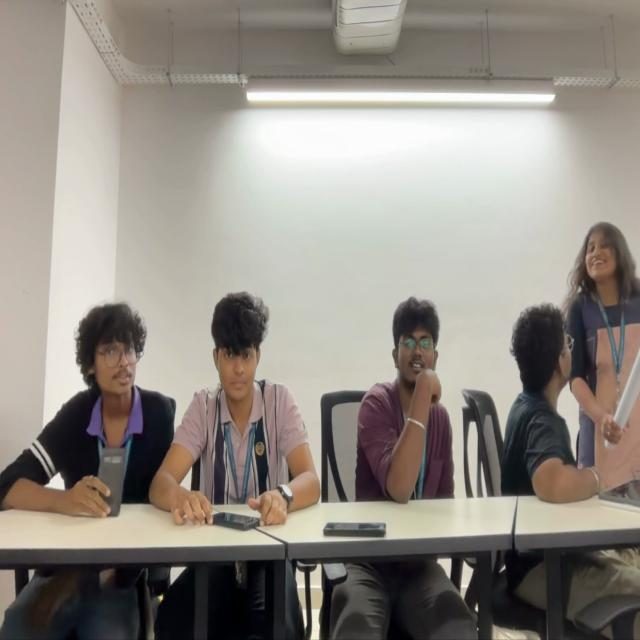Isolated: (356, 294, 454, 494)
socializing: (0, 284, 321, 524), (505, 217, 640, 499)
